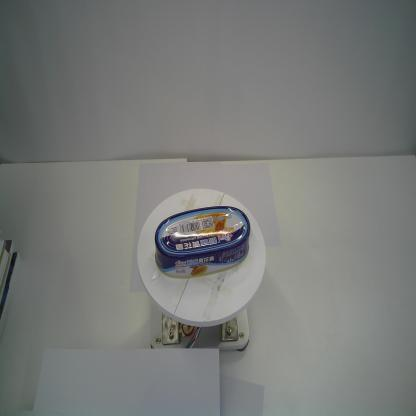Canned Food: (154, 205, 251, 279)
